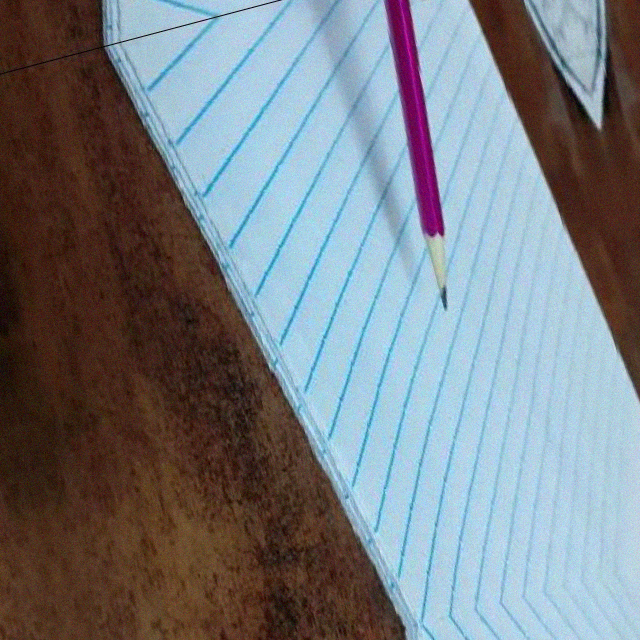pencil: (417, 230, 469, 314)
